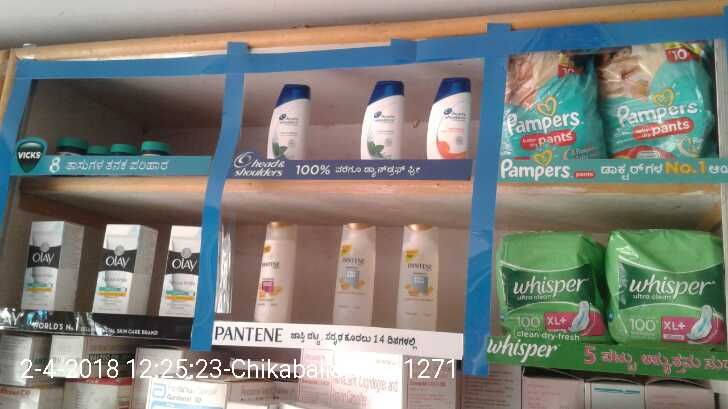vicks: (50, 134, 176, 164)
